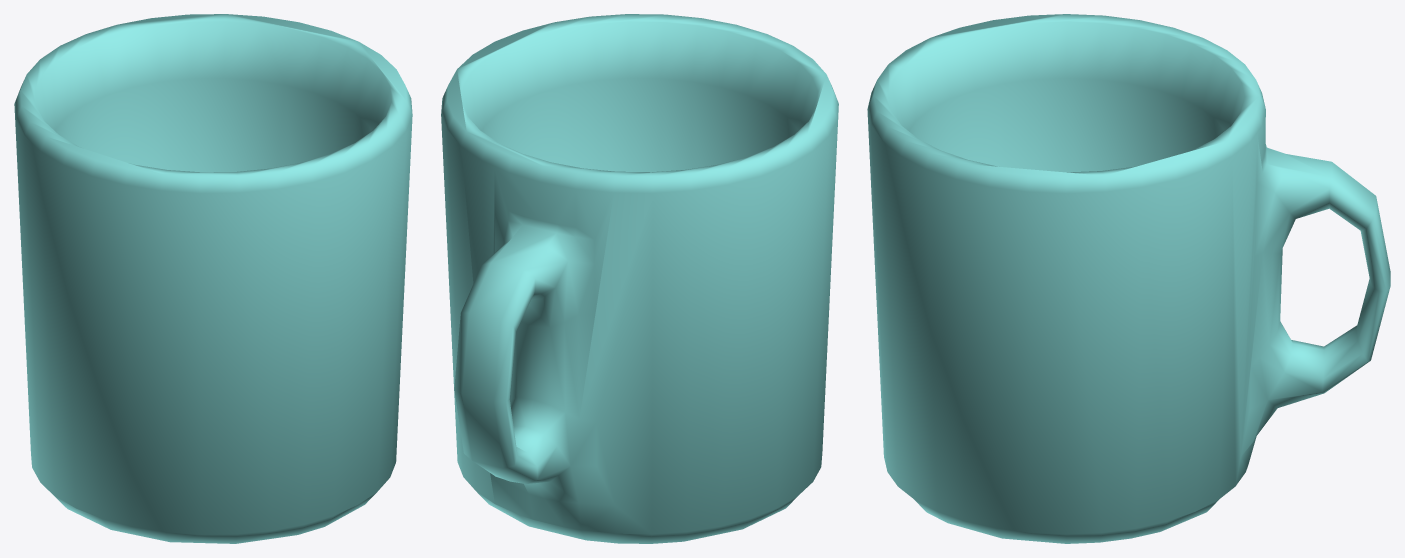
File: cup.fbx
The picture shows the model from 3 angles, left to right: view 1: azimuth 30°, elevation 25°; view 2: azimuth 150°, elevation 25°; view 3: azimuth 270°, elevation 25°; orthographic projection.
Visible parts, largest first — view 1: Circle; view 2: Circle; view 3: Circle.
Part boxes in pixels (box(x1,y1,x2,y2)): Circle: box(14, 14, 412, 543); Circle: box(441, 14, 838, 543); Circle: box(867, 14, 1390, 543).
Size of the model in its own units: 254 by 270 by 334.
